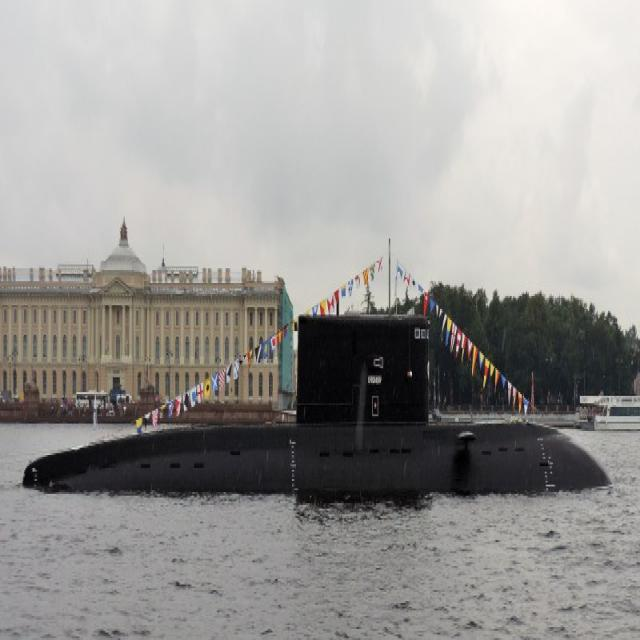submarine: (6, 301, 629, 478)
